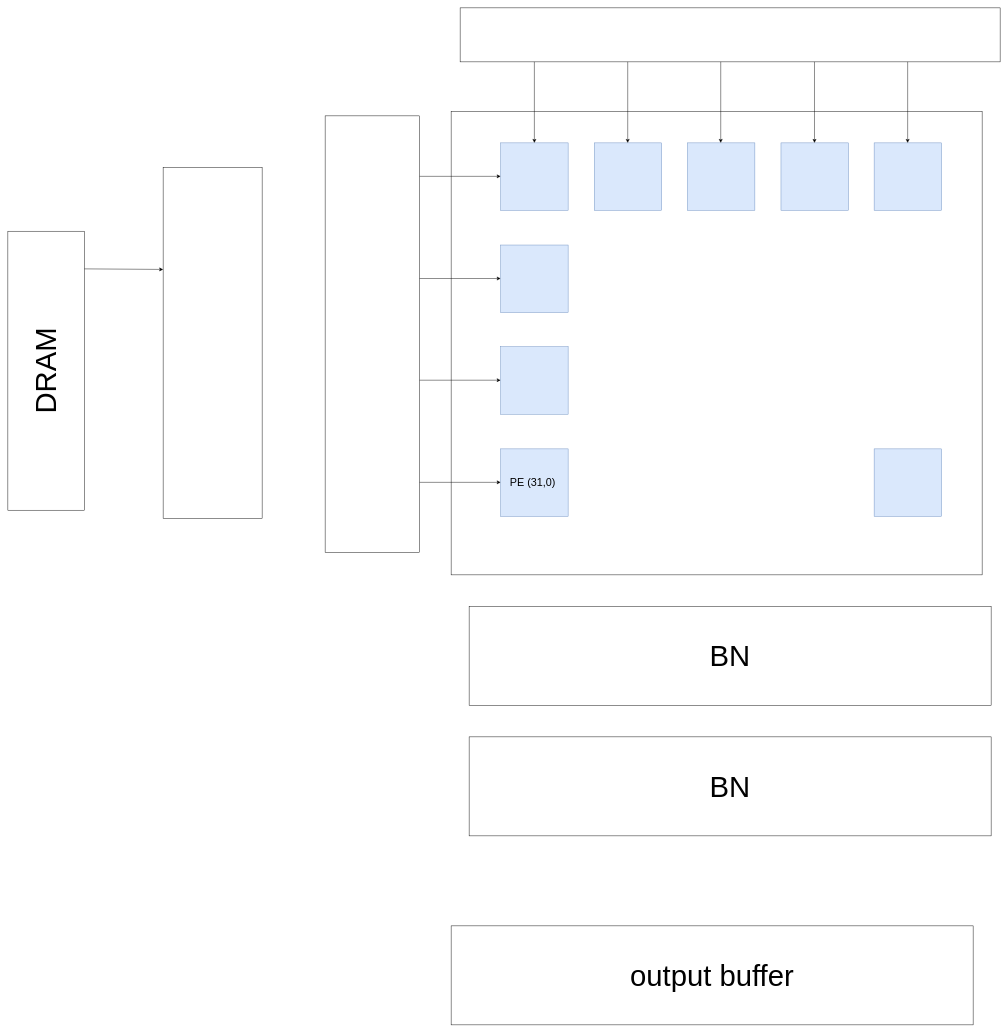
The diagram is 1008 pixels wide and 1033 high, and some of its shapes have lost their labels. Each missing label, with the centre of its shape:
im2col: the point at 212,343
PE (31,31): the point at 908,482
PE(0,0): the point at 534,176
